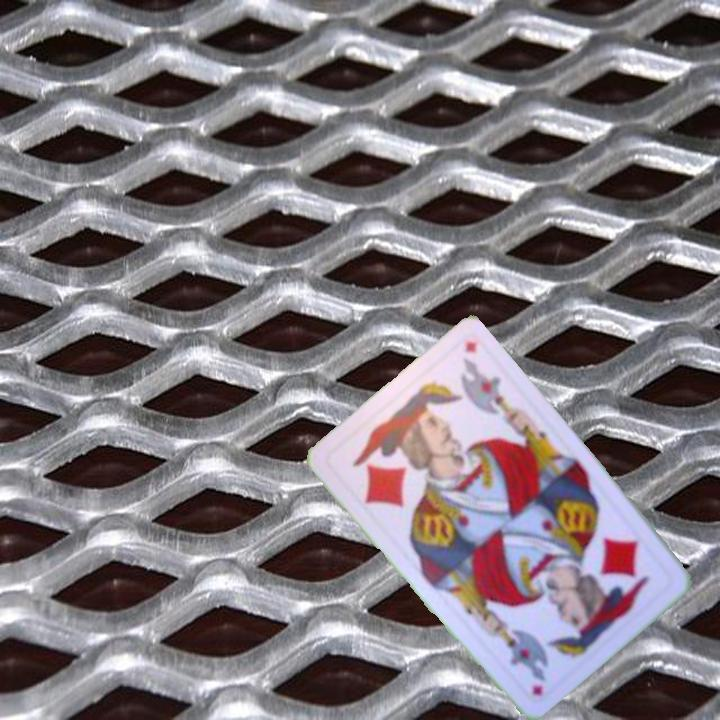d_j.png: (323, 395, 452, 523), (547, 515, 676, 642)
